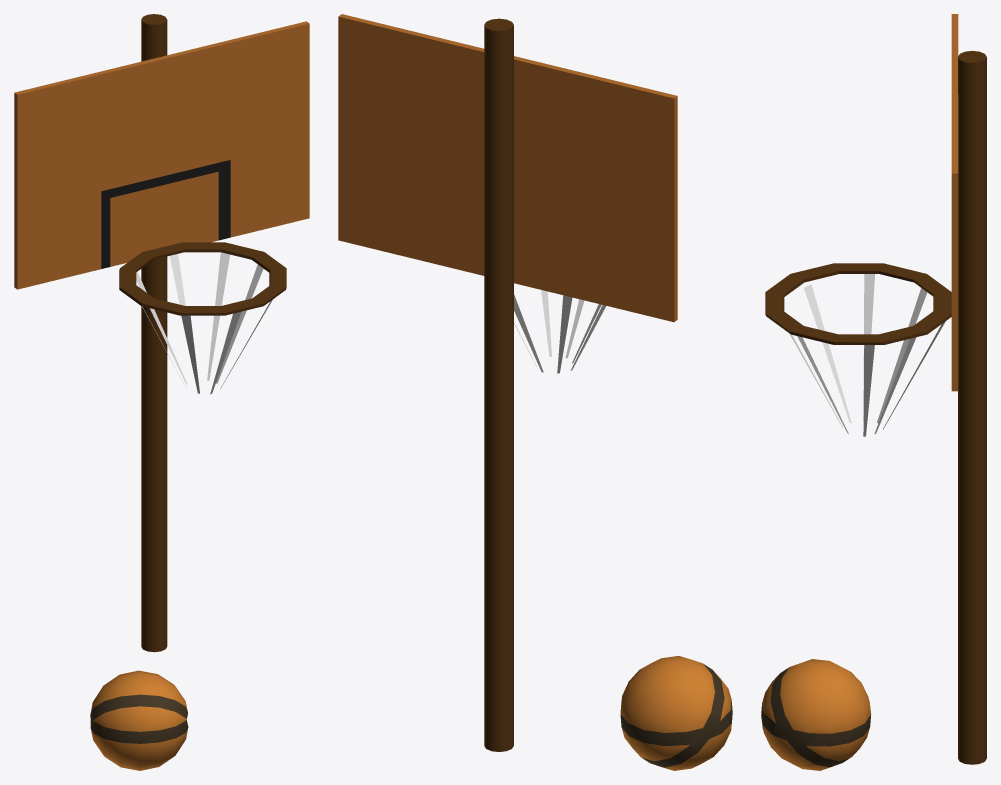
The model's file is Pota ve  Ball.fbx.
3 renders of one model, left to right at view 1: azimuth 30°, elevation 25°; view 2: azimuth 150°, elevation 25°; view 3: azimuth 270°, elevation 25°, orthographic. The views are drawn at different scales.
Visible parts, largest first — view 1: Cube, Cylinder, Sphere, Cylinder.001, Plane; view 2: Cube, Cylinder, Sphere, Plane; view 3: Cylinder, Sphere, Cylinder.001, Plane, Cube.
Part boxes in pixels (x1,y1,x2,y2): Cube: (14, 21, 309, 289); Cylinder: (141, 14, 167, 652); Sphere: (90, 670, 188, 770); Cylinder.001: (119, 242, 286, 315); Plane: (136, 252, 272, 394); Cube: (338, 14, 677, 322); Cylinder: (484, 18, 513, 751); Sphere: (620, 656, 732, 770); Plane: (514, 290, 605, 373); Cylinder: (958, 50, 986, 764); Sphere: (761, 659, 871, 770); Cylinder.001: (765, 263, 951, 344); Plane: (789, 274, 945, 436); Cube: (951, 14, 958, 391).
Bounding box in the file's own units: 109 × 241 × 65.33.
